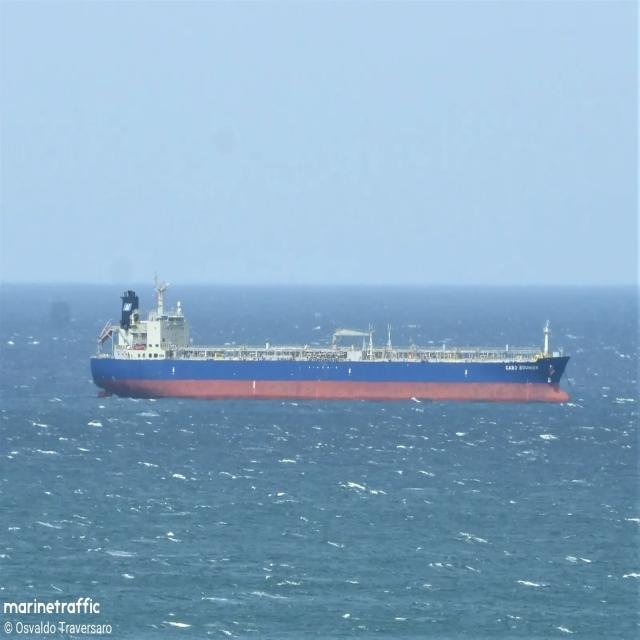Tanker: (91, 280, 570, 402)
